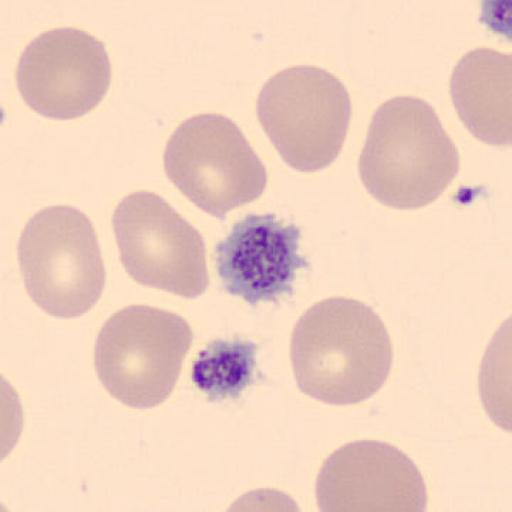Platelet: (213, 209, 309, 307), (188, 334, 264, 404)
RBC: (356, 92, 462, 212), (288, 294, 396, 408), (162, 111, 270, 222), (253, 62, 354, 175), (110, 188, 210, 301), (14, 202, 108, 320), (92, 301, 192, 411), (14, 26, 113, 122), (312, 437, 429, 512), (448, 44, 512, 149), (476, 312, 512, 436), (214, 484, 304, 512), (0, 372, 26, 468)
